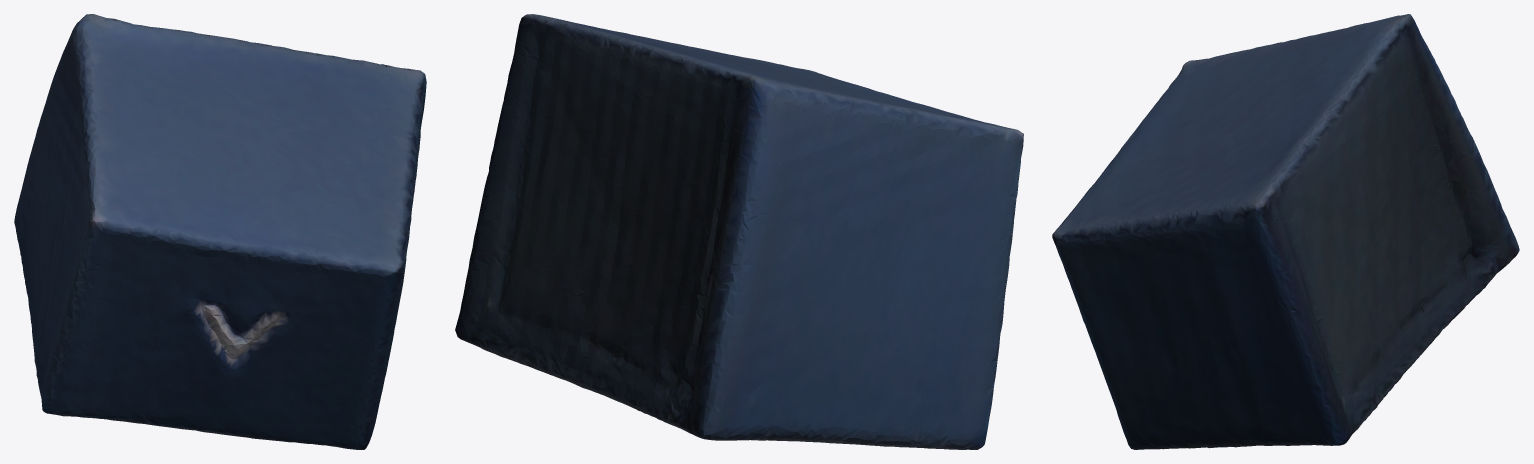
3 views of the same model, side by side, from view 1: azimuth 30°, elevation 25°; view 2: azimuth 150°, elevation 25°; view 3: azimuth 270°, elevation 25° (orthographic). The views are drawn at different scales.
Parts seen in each view (by area): view 1: box.obj; view 2: box.obj; view 3: box.obj.
Boxes of the visible parts, x1=… form: box.obj: x1=14, y1=14, x2=426, y2=449; box.obj: x1=455, y1=14, x2=1023, y2=449; box.obj: x1=1052, y1=14, x2=1519, y2=449.
Size of the model in its own units: 1.11 by 1 by 1.15.
